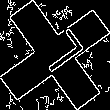L_SW: (25, 28, 85, 82)
